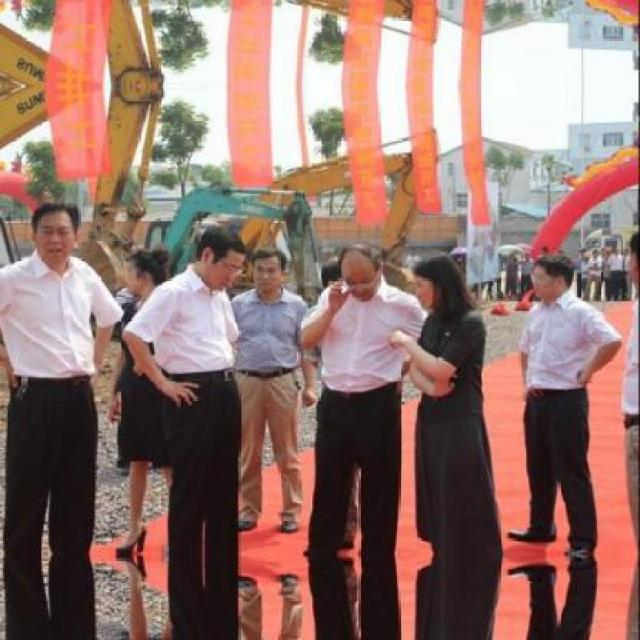Head: (406, 254, 462, 314), (28, 197, 78, 263), (192, 223, 242, 288), (336, 243, 386, 295), (529, 246, 574, 302), (251, 238, 289, 294), (126, 245, 163, 297)
